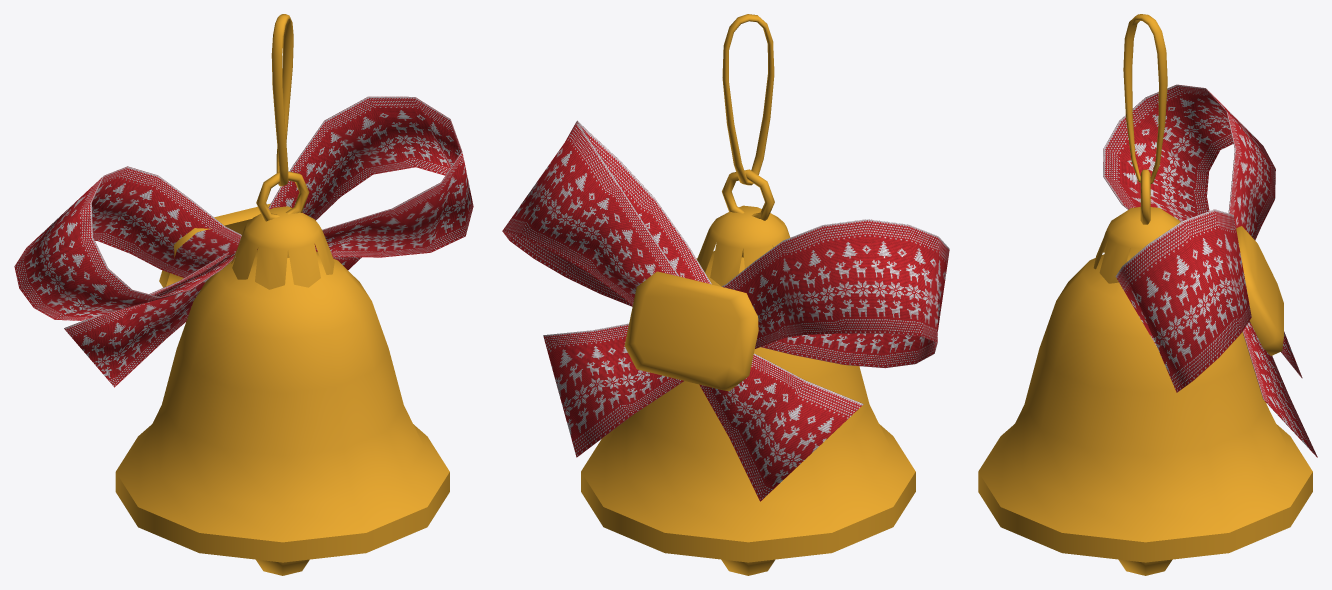
File: Ball_5_Bell.fbx
3 views of the same model, side by side, from view 1: azimuth 30°, elevation 25°; view 2: azimuth 150°, elevation 25°; view 3: azimuth 270°, elevation 25° (orthographic).
Visible parts, largest first — view 1: Ball_5_Bell; view 2: Ball_5_Bell; view 3: Ball_5_Bell.
Boxes of the visible parts, x1,y1,x2,y2 form: Ball_5_Bell: (14,14,473,575); Ball_5_Bell: (502,14,949,575); Ball_5_Bell: (978,14,1317,575).
Bounding box in the file's own units: 7.65 × 9.13 × 5.1.
